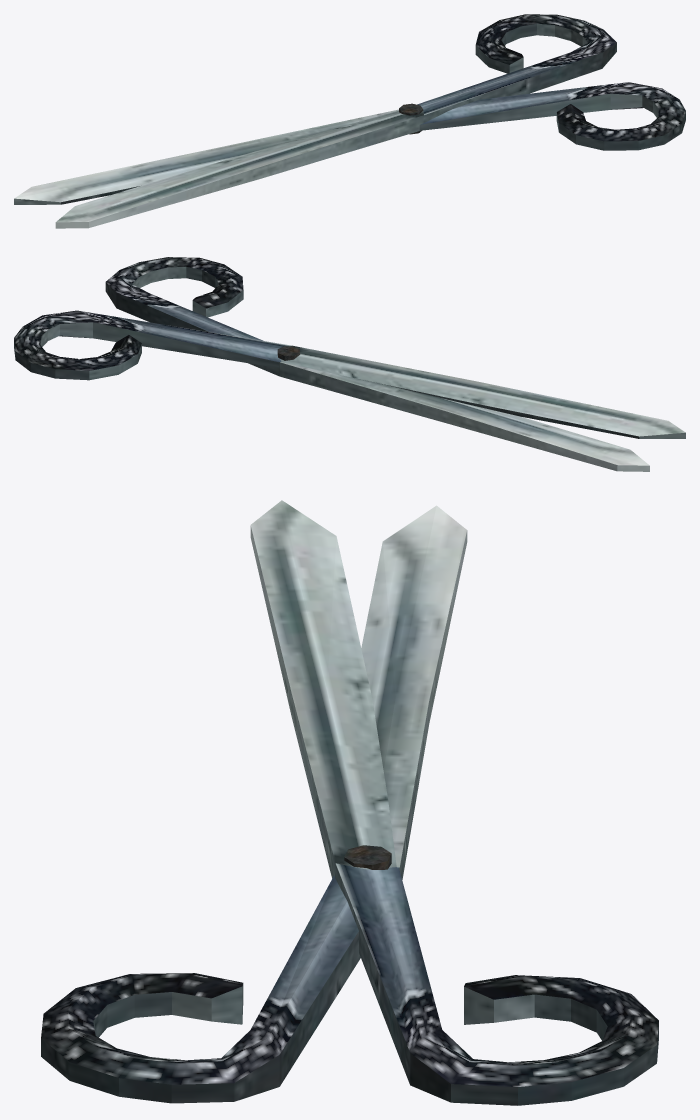
Rendered from ITMW_1H_NOZYCE_01.glb.
3 views of the same model, one above another, from view 1: azimuth 30°, elevation 25°; view 2: azimuth 150°, elevation 25°; view 3: azimuth 270°, elevation 25° (orthographic). The views are drawn at different scales.
Visible parts, largest first — view 1: ITMW_1H_NOZYCE_01; view 2: ITMW_1H_NOZYCE_01; view 3: ITMW_1H_NOZYCE_01.
Part boxes in pixels (<box>): ITMW_1H_NOZYCE_01: <box>14,14,685,228</box>; ITMW_1H_NOZYCE_01: <box>14,257,685,471</box>; ITMW_1H_NOZYCE_01: <box>41,500,658,1105</box>.
Size of the model in its own units: 0.4183 by 0.0153 by 0.1843.
1 material, 1 textured.
